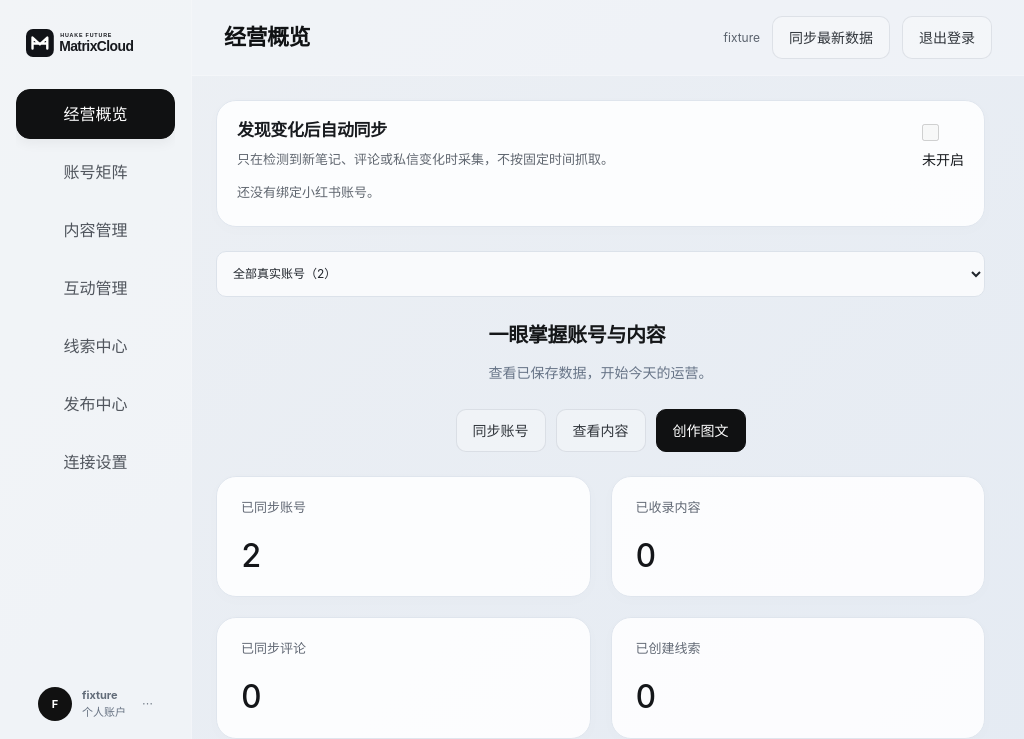
binds a second-account submission failure to that account while preserving the first result
Expected: the text "已同步账号" is shown, [241, 499, 306, 515]
Click the button "账号矩阵" at (96, 172), box [16, 147, 175, 197]
(page scrolled)
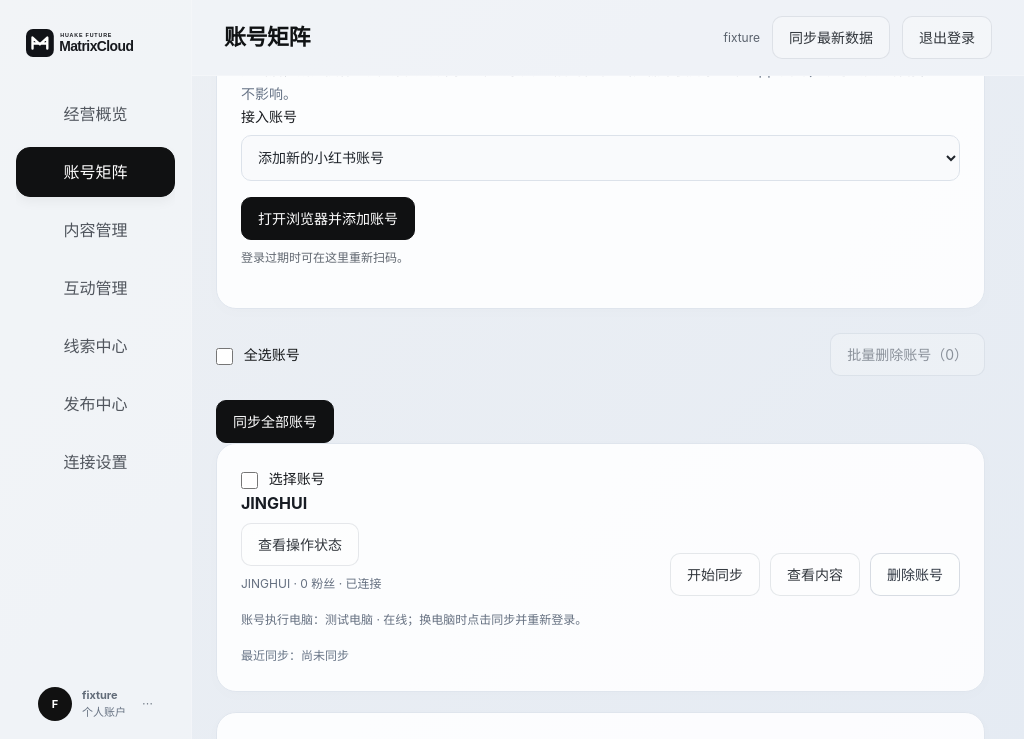
Expected: the heading "JINGHUI" is shown, [241, 492, 307, 512]
Click the button "同步全部账号" at (275, 422), box [216, 400, 334, 443]
(page scrolled)
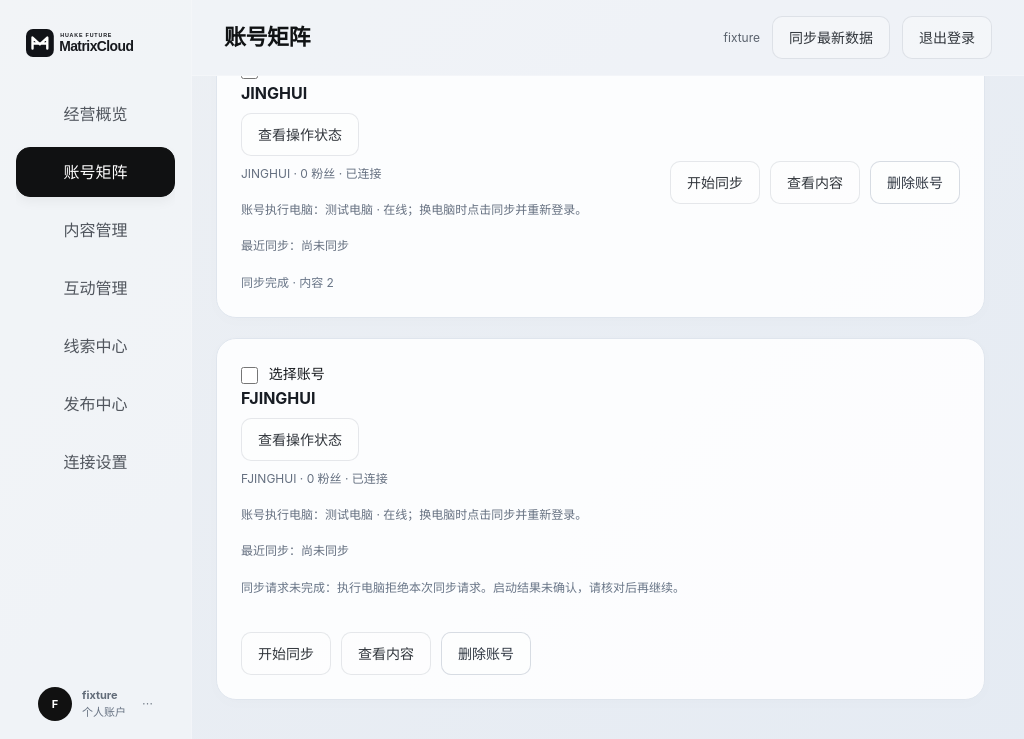
Expected: the message "同步完成 · 内容 2" is shown, [241, 275, 334, 290]
Expected: the message "同步请求未完成：执行电脑拒绝本次同步请求。启动结果未确认，请核对后再继续。" is shown, [241, 578, 685, 598]
